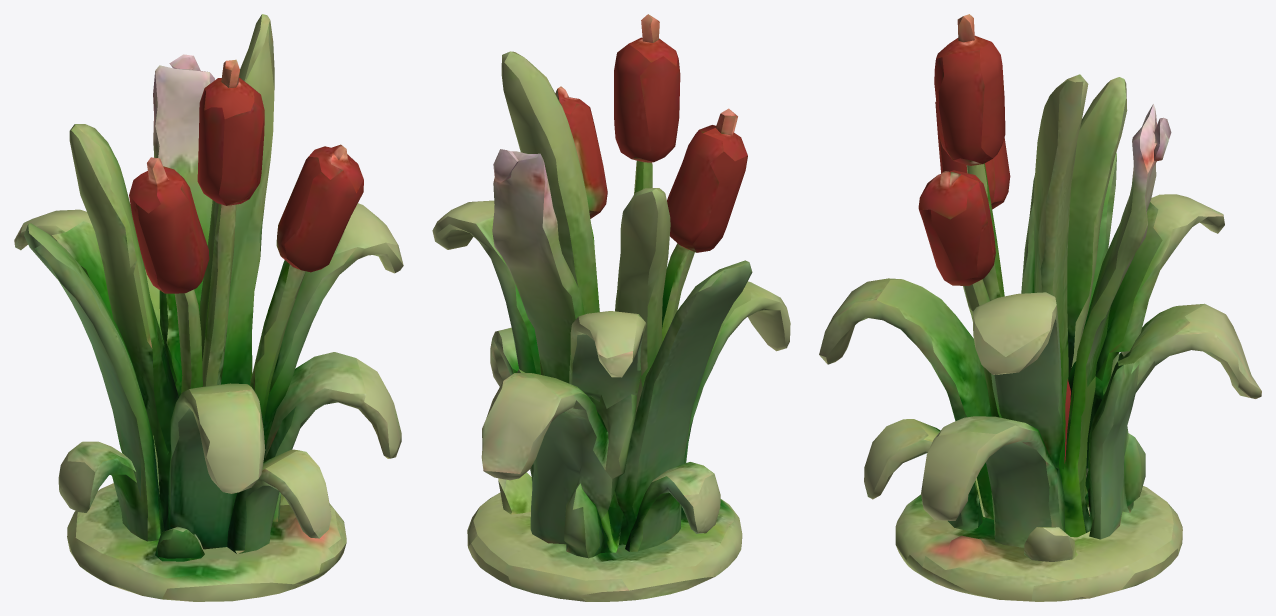
File: reeds.glb
3 views of the same model, side by side, from view 1: azimuth 30°, elevation 25°; view 2: azimuth 150°, elevation 25°; view 3: azimuth 270°, elevation 25° (orthographic). The views are drawn at different scales.
Visible parts, largest first — view 1: reeds_s15; view 2: reeds_s15; view 3: reeds_s15.
Part boxes in pixels (left/top/right/bottom): reeds_s15: left=14, top=14, right=403, bottom=601; reeds_s15: left=432, top=14, right=790, bottom=601; reeds_s15: left=819, top=14, right=1261, bottom=601.
Size of the model in its own units: 0.6896 by 1 by 0.7672.
1 material, 1 textured.
